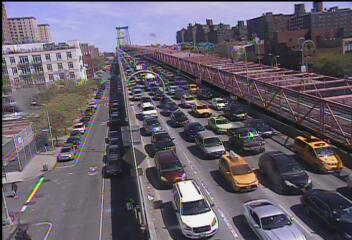neg: (38, 161, 46, 172), (47, 145, 54, 155)
pos: (7, 180, 21, 198)
